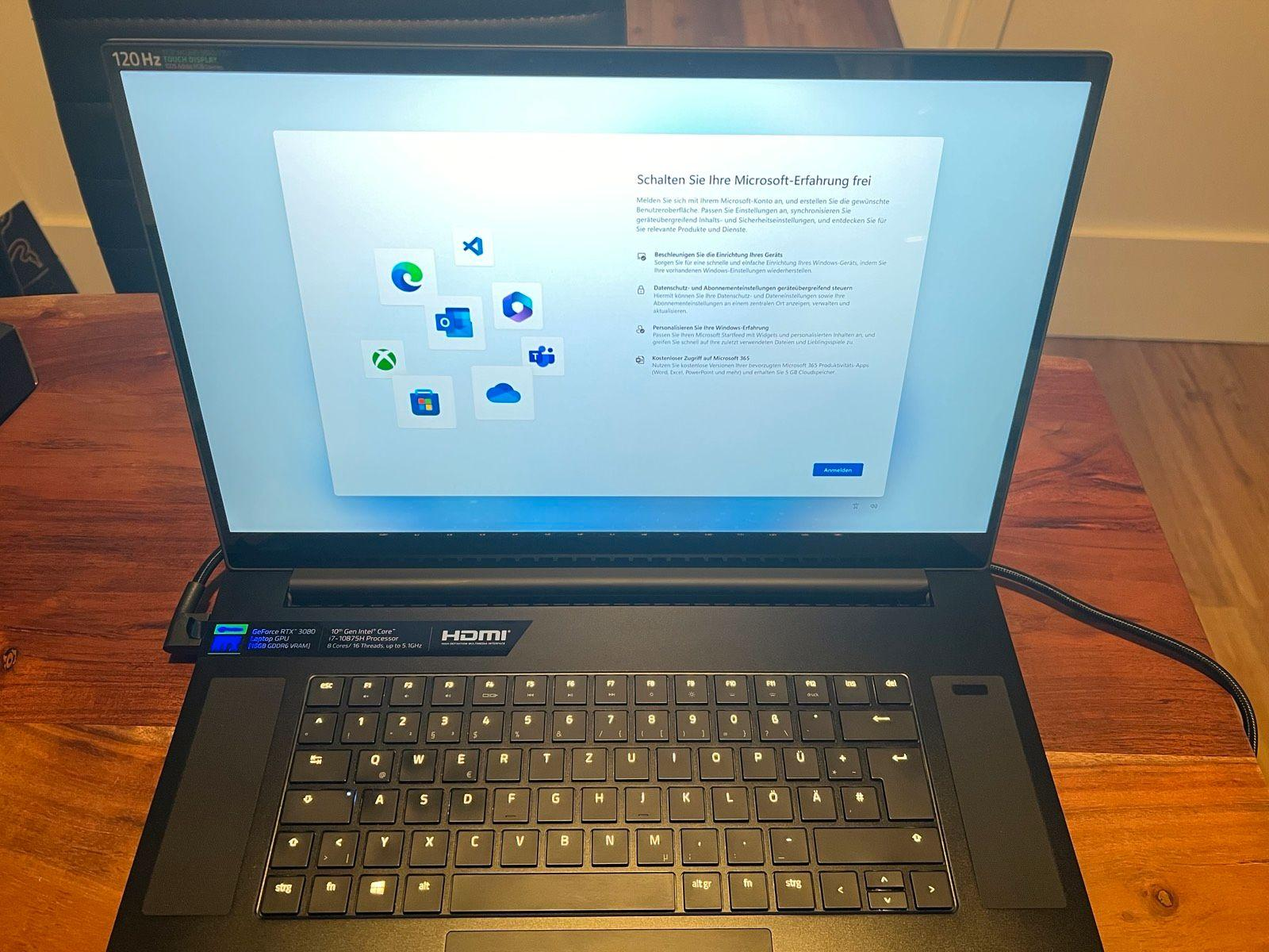0: (715, 706, 751, 739)
1: (339, 709, 378, 741)
2: (381, 708, 420, 741)
3: (424, 708, 461, 740)
4: (466, 708, 502, 739)
5: (508, 707, 544, 739)
6: (550, 707, 586, 739)
7: (592, 707, 627, 739)
8: (633, 706, 669, 739)
9: (674, 706, 710, 739)
a: (357, 785, 397, 822)
accent: (797, 706, 834, 739)
ae: (796, 782, 835, 819)
alt-left: (401, 870, 443, 912)
altgr-right: (680, 868, 721, 908)
b: (542, 824, 583, 864)
c: (453, 826, 493, 865)
caret: (297, 709, 335, 741)
comma: (678, 824, 717, 862)
d: (447, 783, 485, 821)
del: (838, 707, 917, 739)
e: (440, 744, 478, 780)
enter: (865, 743, 934, 819)
f: (490, 784, 528, 821)
g: (535, 783, 572, 820)
h: (579, 783, 615, 820)
hash: (838, 782, 879, 818)
i: (655, 743, 691, 777)
j: (623, 782, 659, 820)
k: (666, 782, 704, 820)
keyboard: (215, 639, 1009, 942)
l: (709, 782, 747, 818)
less: (315, 827, 357, 866)
m: (633, 824, 673, 864)
minus: (767, 823, 807, 861)
n: (588, 824, 628, 864)
o: (696, 743, 734, 777)
oe: (753, 782, 792, 819)
p: (738, 743, 775, 777)
plus: (823, 743, 861, 777)
point: (723, 824, 762, 862)
q: (353, 746, 393, 780)
r: (483, 744, 521, 779)
s: (401, 784, 441, 822)
shift-left: (267, 828, 312, 866)
shift-lock: (278, 786, 351, 822)
shift-right: (812, 823, 941, 862)
space: (448, 869, 673, 911)
ss: (755, 707, 792, 739)
strg-left: (255, 871, 305, 913)
strg-right: (772, 867, 815, 908)
t: (527, 743, 563, 778)
tab: (287, 746, 350, 780)
u: (611, 743, 648, 778)
ue: (781, 743, 819, 777)
v: (498, 825, 538, 864)
w: (397, 744, 435, 780)
x: (408, 826, 447, 865)
y: (362, 827, 402, 866)
z: (569, 743, 605, 778)
